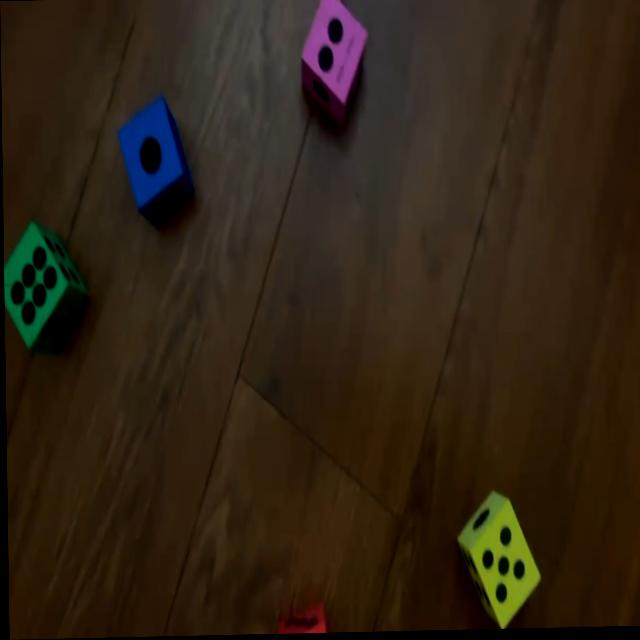blue_block: (118, 98, 190, 223)
red_block: (278, 604, 326, 635)
